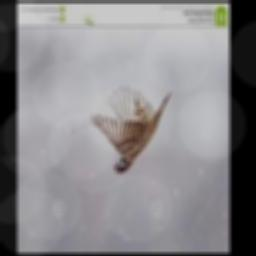Sparrow: (86, 86, 170, 174)
